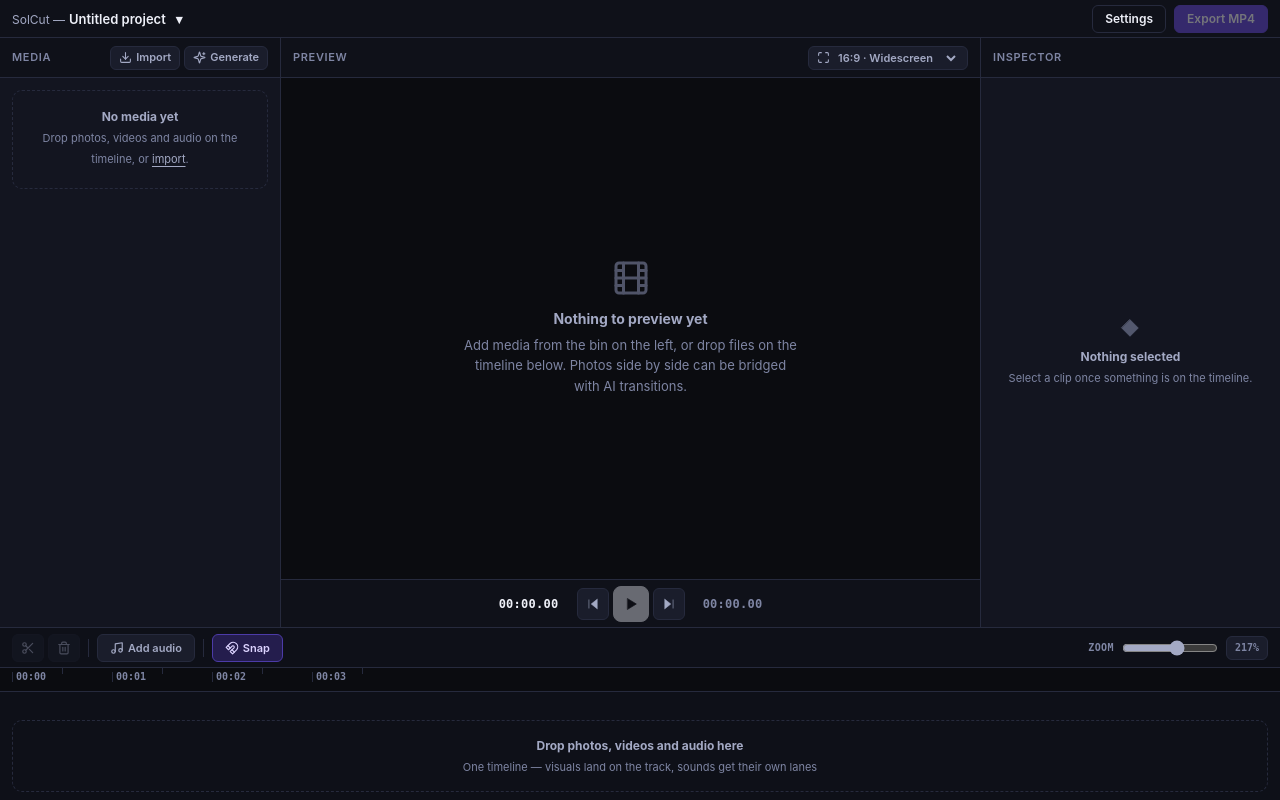
Scenario: the create sheet switches between photo and video › choosing Video swaps the model list, drops the aspect ratio, and renames the action
Click the button with aria-label "Generate a photo or video": (226, 58) 184,46 -> 268,70
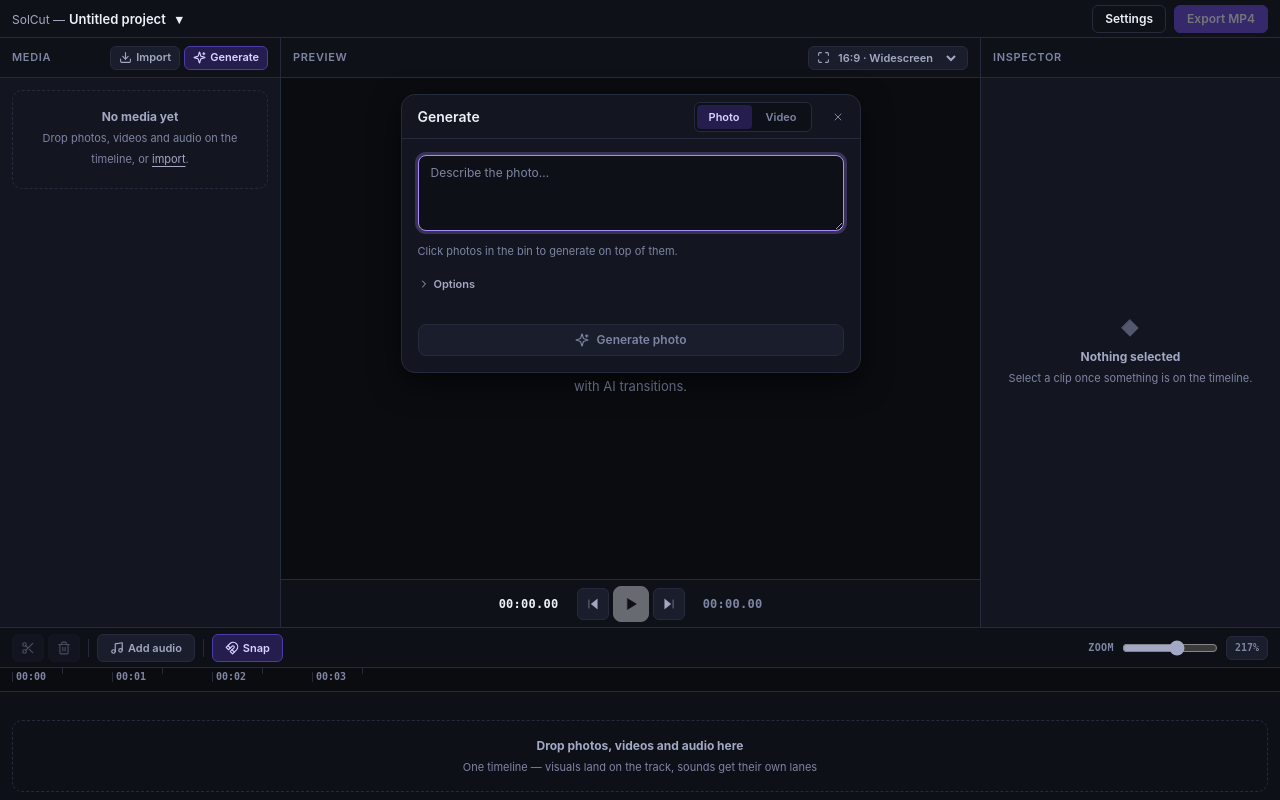
Photo is where it starts, and it discloses two controls.
Click the button "Options": (446, 284) 418,272 -> 475,296
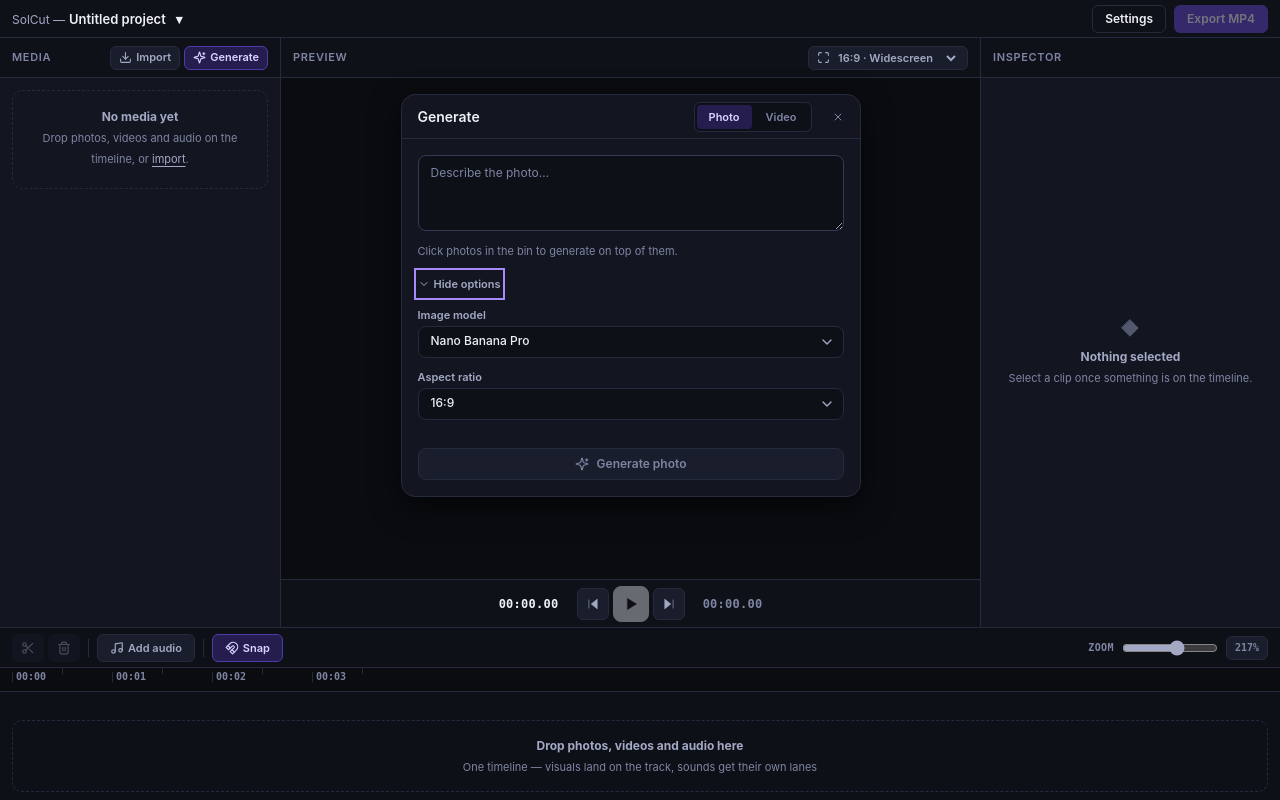
expect the button "Generate photo" is shown: met, box 418,448 -> 844,480
expect the dropdown labelled "Image model" is shown: met, box 418,326 -> 844,358
expect the dropdown labelled "Aspect ratio" is shown: met, box 418,388 -> 844,420
Click the button "Video": (781, 116) 754,104 -> 808,128
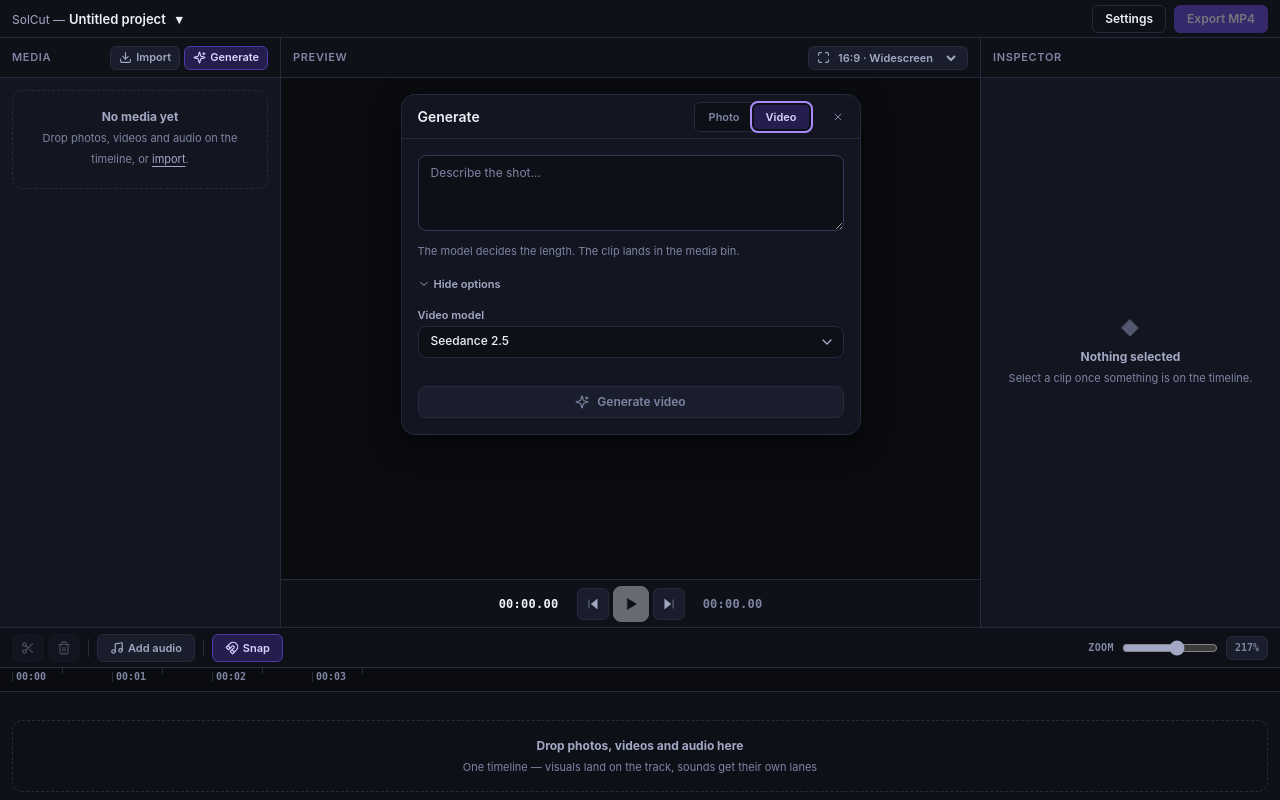
expect the option "Nano Banana Pro" is not shown: met
expect the label labelled "Image model" is gone: met
expect the button "Generate video" is shown: met, box 418,386 -> 844,418
